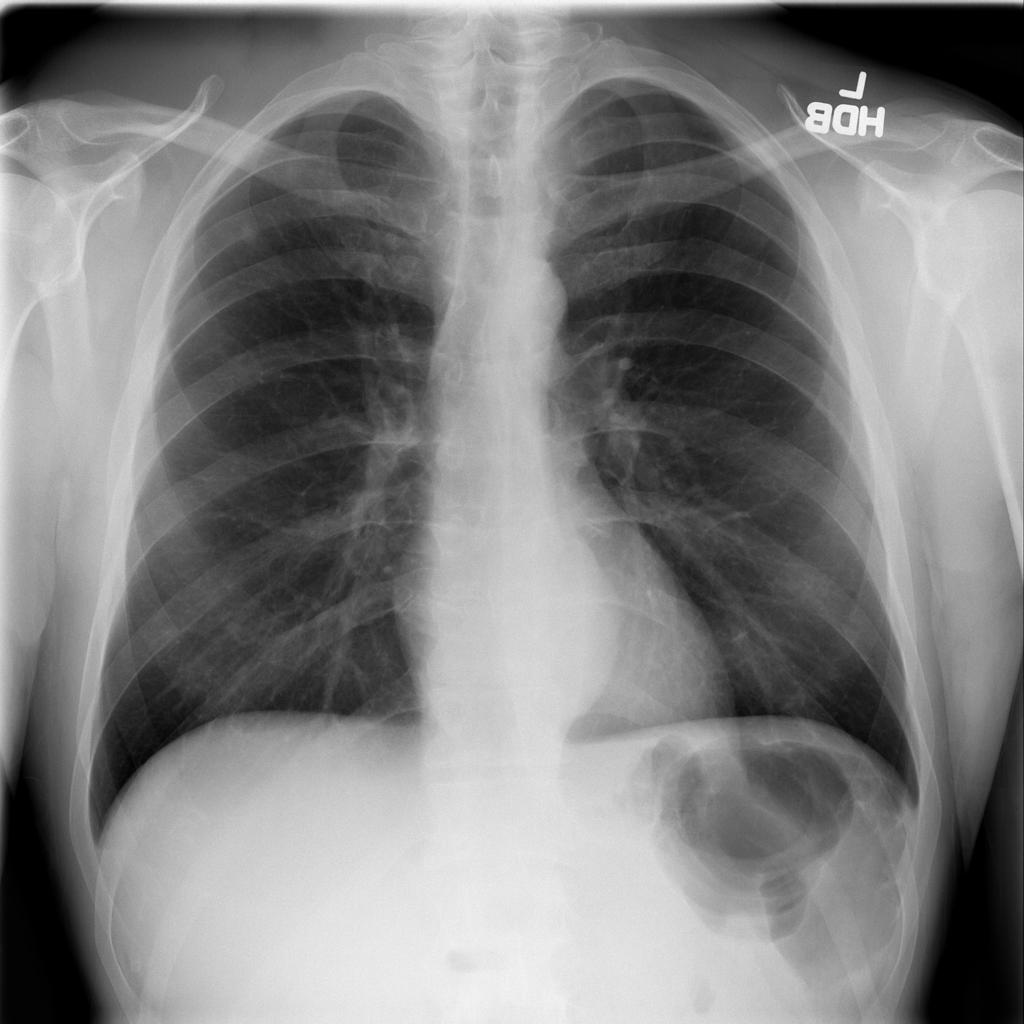nodule: (225, 204, 275, 255)
